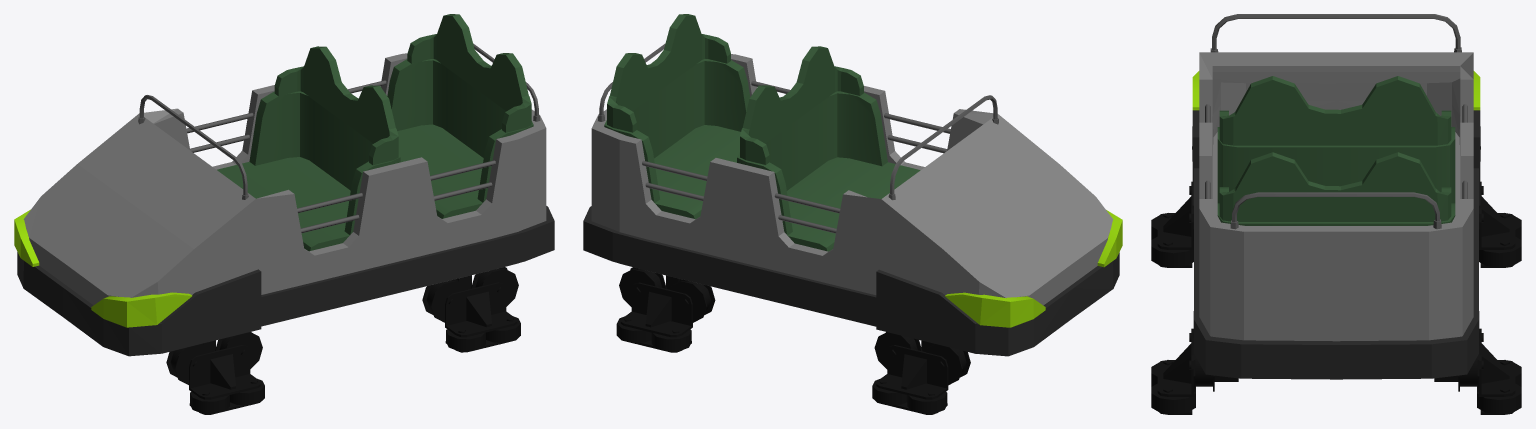
The model's file is SM_wagon_rollercoaster_01.fbx.
3 renders of one model, left to right at view 1: azimuth 30°, elevation 25°; view 2: azimuth 150°, elevation 25°; view 3: azimuth 270°, elevation 25°, orthographic. The views are drawn at different scales.
Parts seen in each view (by area): view 1: Box084; view 2: Box084; view 3: Box084.
Part boxes in pixels (<box>): Box084: <box>14,14,554,414</box>; Box084: <box>583,14,1122,414</box>; Box084: <box>1151,14,1521,414</box>.
Bounding box in the file's own units: 150 × 77.28 × 91.84.
